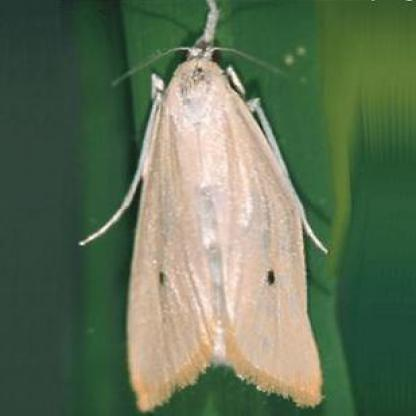stem-borer: (76, 0, 328, 416)
